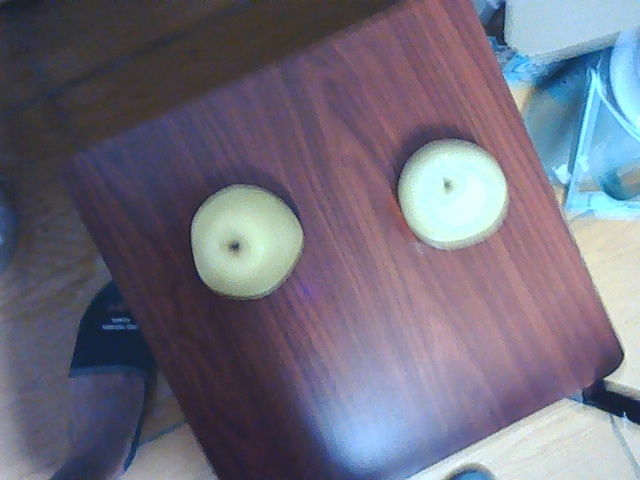pear: (180, 186, 308, 297), (391, 135, 513, 245)
